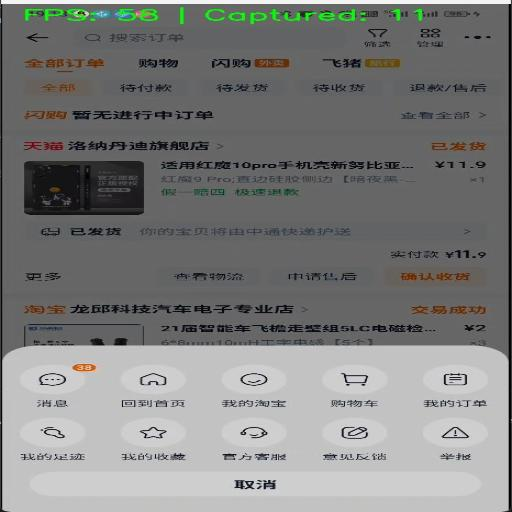back: (16, 28, 52, 47)
butten: (122, 418, 185, 448), (122, 418, 183, 448)
close: (31, 469, 480, 496)
